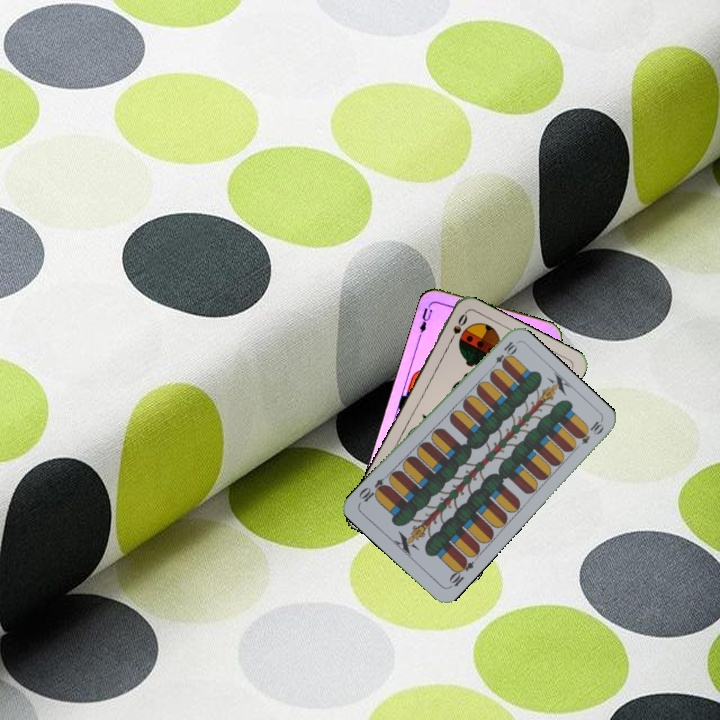E10: (487, 337, 519, 373), (445, 554, 476, 591)
EU: (415, 300, 437, 339)
SO: (444, 309, 470, 347)
